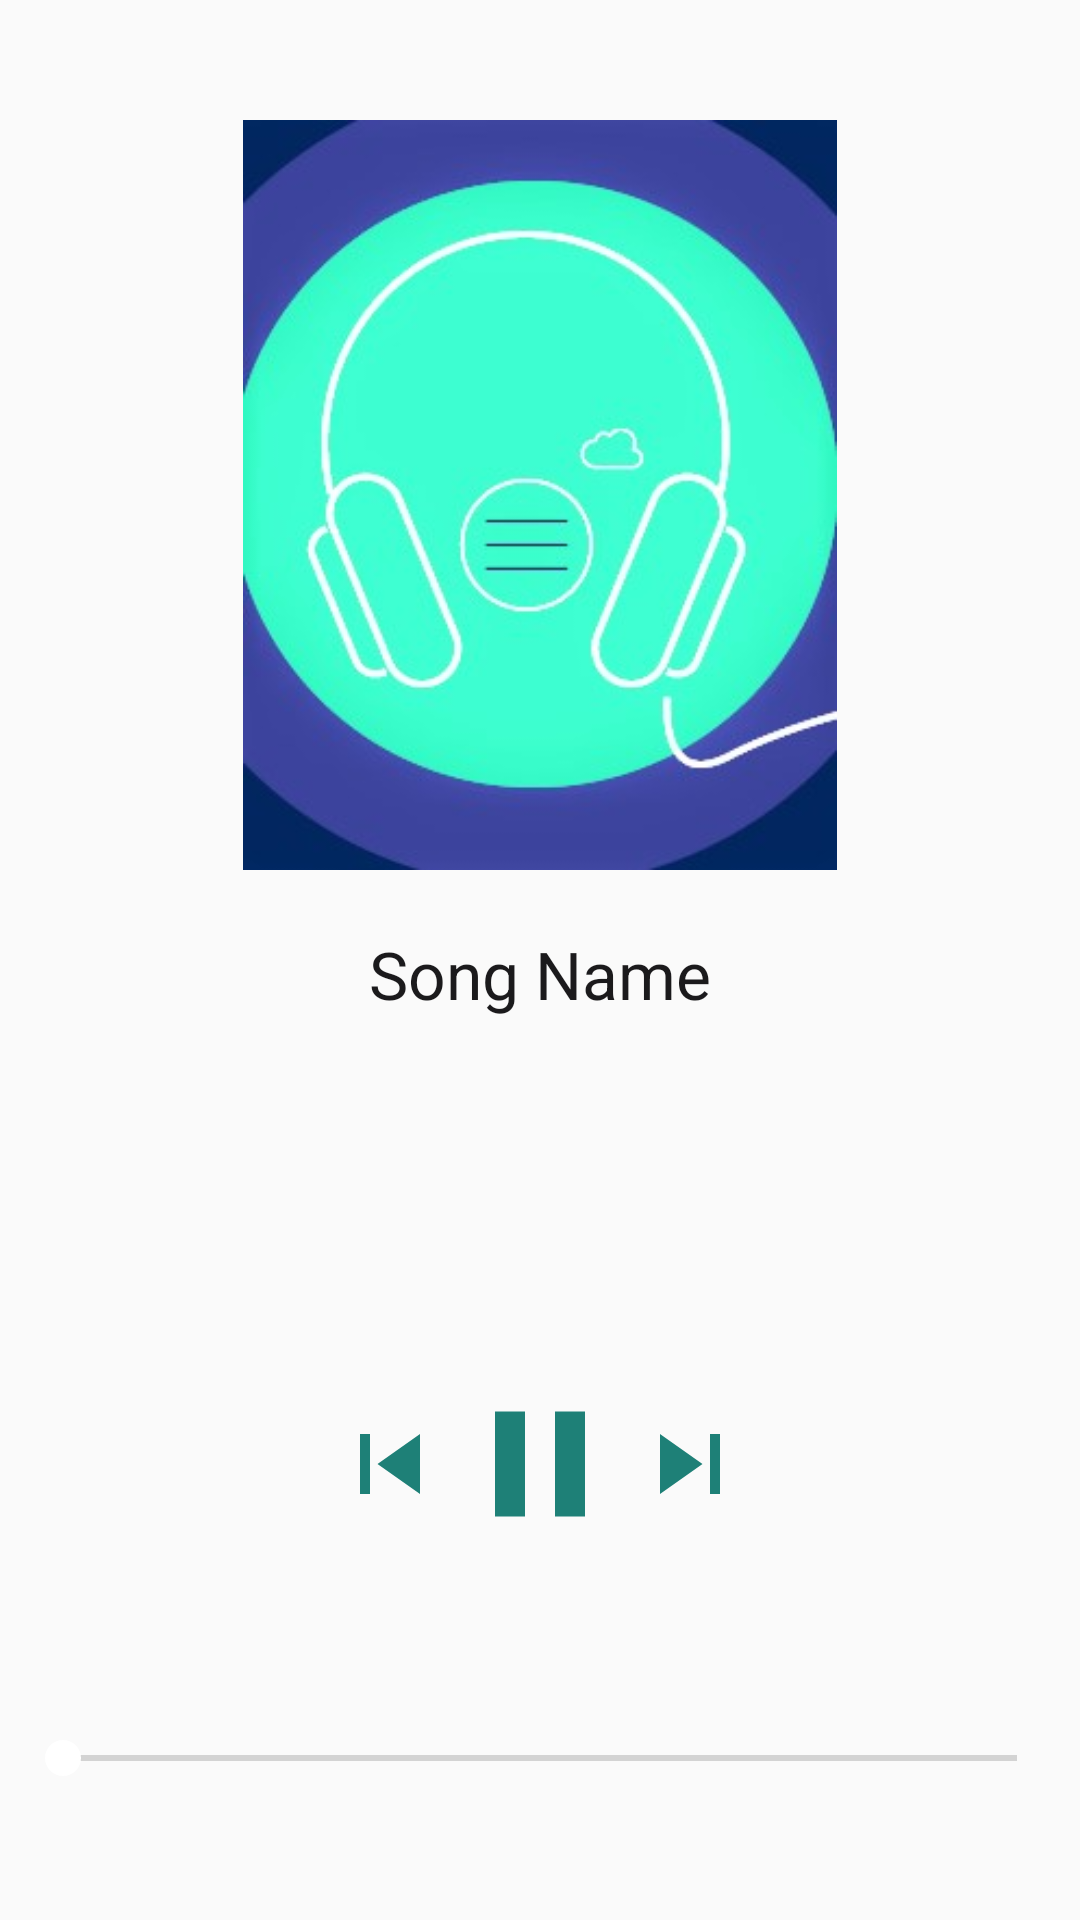

Point at icon controls on the screen. Image size 1080w x 1920h, points as (x=x, y=y).
next: (x=690, y=1464)
pause: (x=540, y=1464)
previous: (x=390, y=1464)
